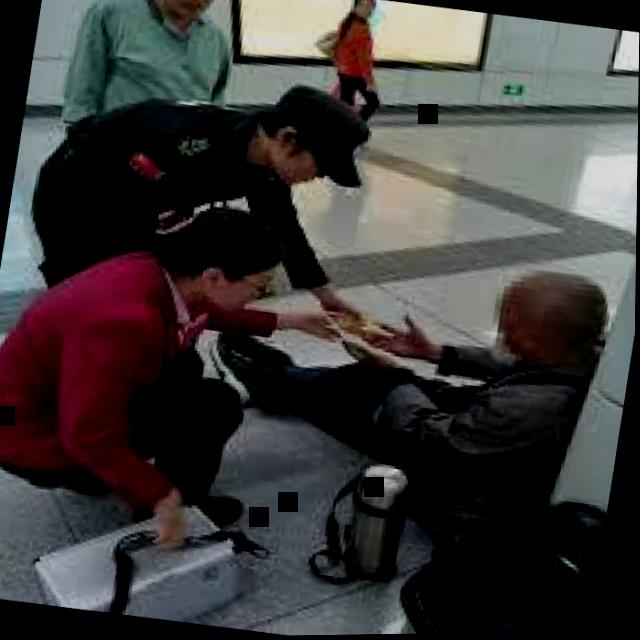Fall-Detected: (166, 202, 617, 537)
